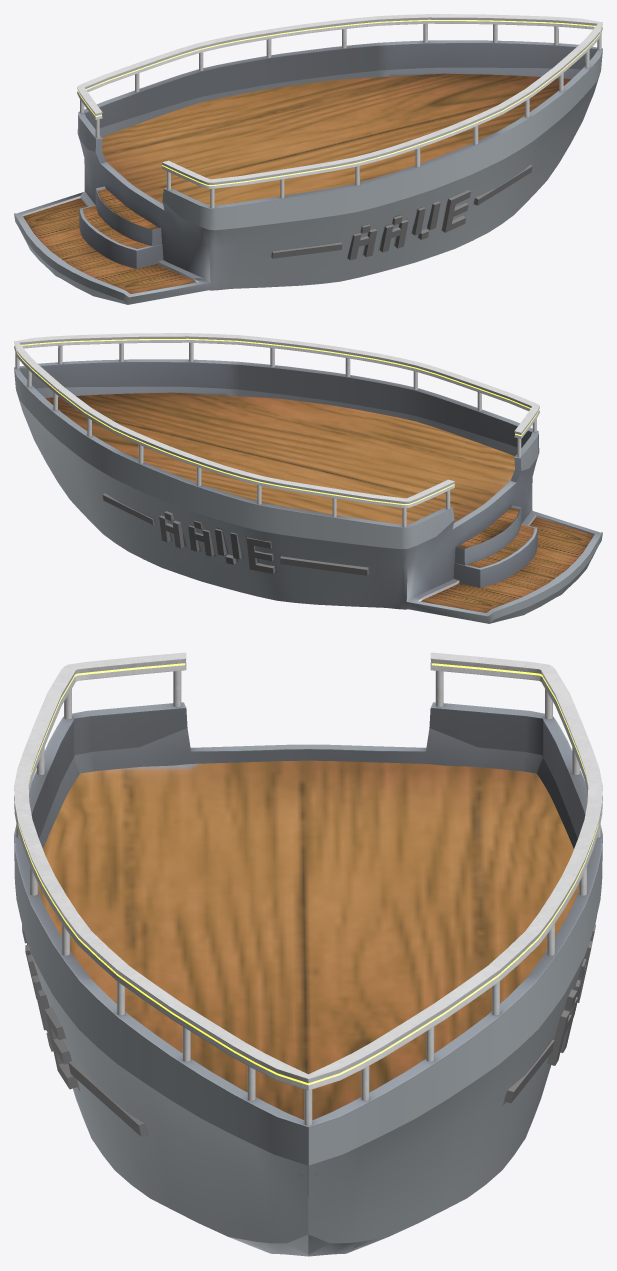
Rendered from AaveBoatNew.fbx.
3 views of the same model, one above another, from view 1: azimuth 30°, elevation 25°; view 2: azimuth 150°, elevation 25°; view 3: azimuth 270°, elevation 25° (orthographic). The views are drawn at different scales.
Visible parts, largest first — view 1: AaveBoat.006, AaveBoat.008, AaveBoat.007, Plane.005; view 2: AaveBoat.006, AaveBoat.008, AaveBoat.007, Plane.005; view 3: AaveBoat.008, AaveBoat.006, AaveBoat.007, Plane.005.
Boxes of the visible parts, x1,y1,x2,y2 form: AaveBoat.006: (14,40,602,304); AaveBoat.008: (102,73,571,205); AaveBoat.007: (77,14,602,208); Plane.005: (271,164,532,260); AaveBoat.006: (14,359,602,623); AaveBoat.008: (45,392,514,524); AaveBoat.007: (14,333,539,527); Plane.005: (102,493,369,575); AaveBoat.008: (38,760,578,1120); AaveBoat.006: (14,702,602,1256); AaveBoat.007: (14,652,602,1125); Plane.005: (22,918,596,1136).
Size of the model in its own units: 37.76 by 9.24 by 18.95.
